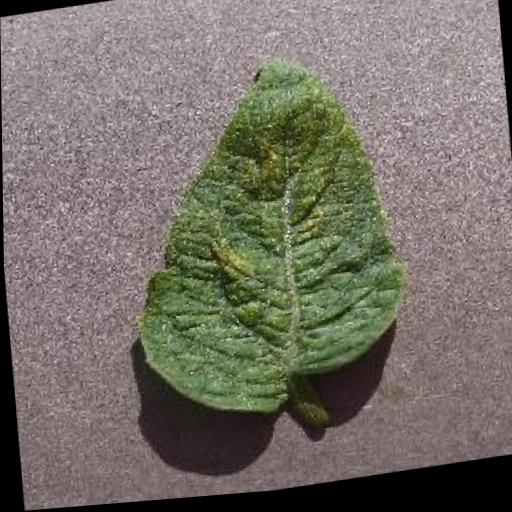Spider Mites: (119, 47, 413, 438)
